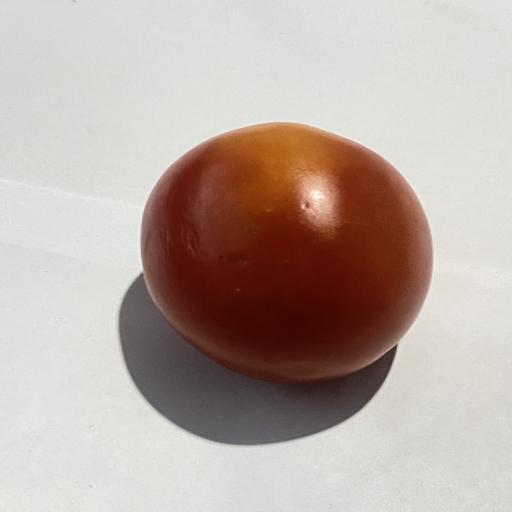ripe: (141, 123, 432, 381)
